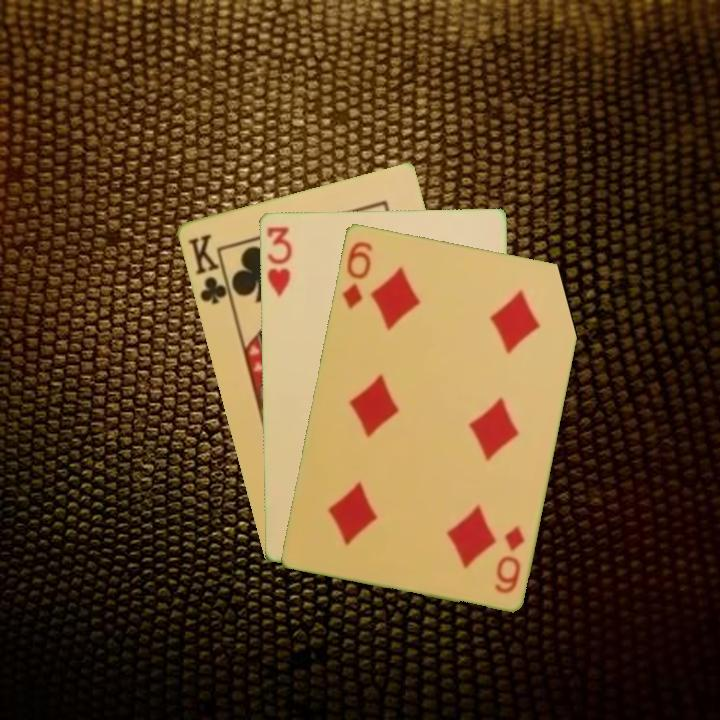3h: (263, 222, 294, 299)
6d: (338, 237, 375, 311), (491, 521, 527, 596)
Kc: (184, 230, 234, 307)
